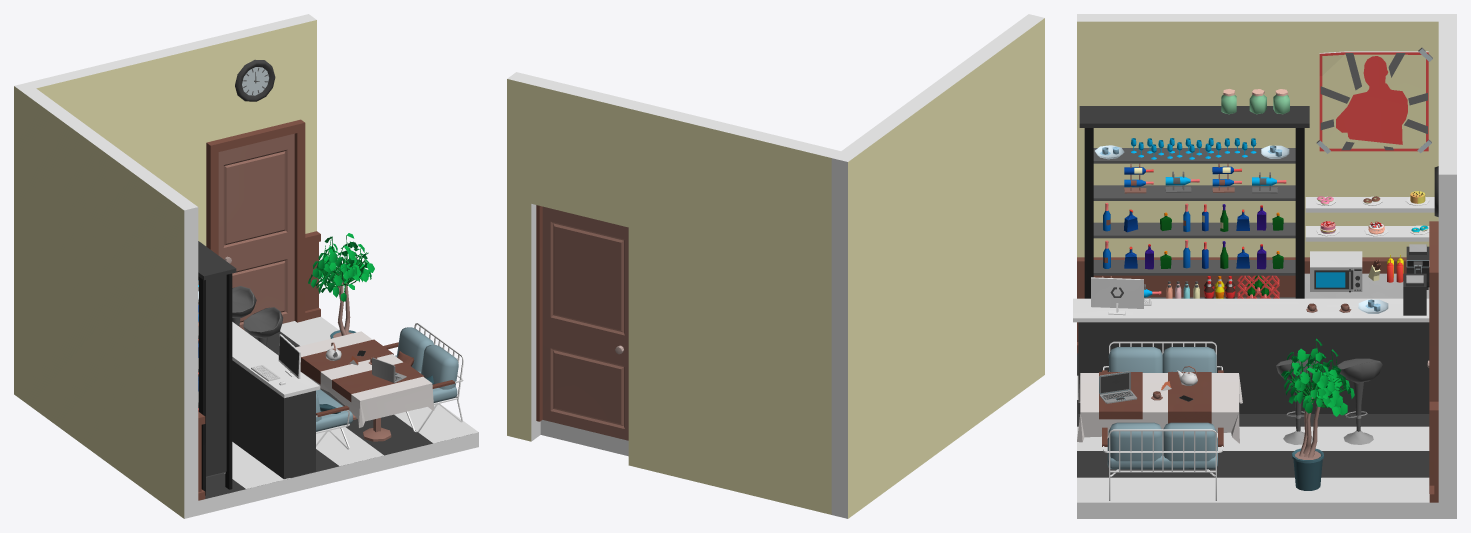
Rendered from room_28.glb.
3 views of the same model, side by side, from view 1: azimuth 30°, elevation 25°; view 2: azimuth 150°, elevation 25°; view 3: azimuth 270°, elevation 25° (orthographic). The views are drawn at different scales.
Parts seen in each view (by area): view 1: Walls_150.001, Walls_150.002, door_009.002, kitchen_item_038.001, wall_010.001, shop_053.004, Walls_150.004, kitchen_table_005.003, door_010.002, Walls_011.027, Walls_150.003, sofa_024.001 (+7 smaller); view 2: Walls_150.001, Walls_150.002, door_009.002, Walls_150.004, Walls_150.003, door_010.002, Walls_011.027; view 3: Walls_150.001, kitchen_item_038.001, wall_010.001, shop_053.004, picture_039.002, kitchen_table_005.003, Walls_011.027, Walls_150.003, sofa_024.001, flower_027.001, sofa_024.002, Walls_019.017 (+20 smaller).
Boxes of the visible parts, bbox=[...] form: Walls_150.001: bbox=[14, 82, 198, 518]; Walls_150.002: bbox=[28, 39, 211, 245]; door_009.002: bbox=[218, 133, 294, 330]; kitchen_item_038.001: bbox=[198, 322, 320, 478]; wall_010.001: bbox=[205, 316, 478, 498]; shop_053.004: bbox=[198, 241, 236, 495]; Walls_150.004: bbox=[204, 19, 295, 140]; kitchen_table_005.003: bbox=[296, 331, 434, 441]; door_010.002: bbox=[206, 119, 305, 322]; Walls_011.027: bbox=[198, 331, 478, 515]; Walls_150.003: bbox=[288, 14, 316, 233]; sofa_024.001: bbox=[383, 323, 463, 432]; Walls_150.001: bbox=[831, 14, 1044, 518]; Walls_150.002: bbox=[628, 101, 840, 514]; door_009.002: bbox=[542, 206, 628, 440]; Walls_150.004: bbox=[531, 78, 637, 227]; Walls_150.003: bbox=[507, 72, 540, 441]; door_010.002: bbox=[536, 205, 542, 421]; Walls_011.027: bbox=[540, 420, 628, 456]; Walls_150.001: bbox=[1077, 14, 1456, 257]; kitchen_item_038.001: bbox=[1073, 298, 1429, 413]; wall_010.001: bbox=[1077, 353, 1429, 502]; shop_053.004: bbox=[1079, 106, 1309, 298]; picture_039.002: bbox=[1316, 47, 1432, 153]; kitchen_table_005.003: bbox=[1077, 372, 1242, 443]; Walls_011.027: bbox=[1077, 374, 1438, 518]; Walls_150.003: bbox=[1438, 163, 1456, 518]; sofa_024.001: bbox=[1102, 422, 1223, 500]; flower_027.001: bbox=[1281, 338, 1354, 490]; sofa_024.002: bbox=[1102, 341, 1223, 372]; Walls_019.017: bbox=[1077, 269, 1406, 341].
Bounding box in the file's own units: 4.2 × 4.2 × 4.24.
Materials: 1 (1 with a texture image).
